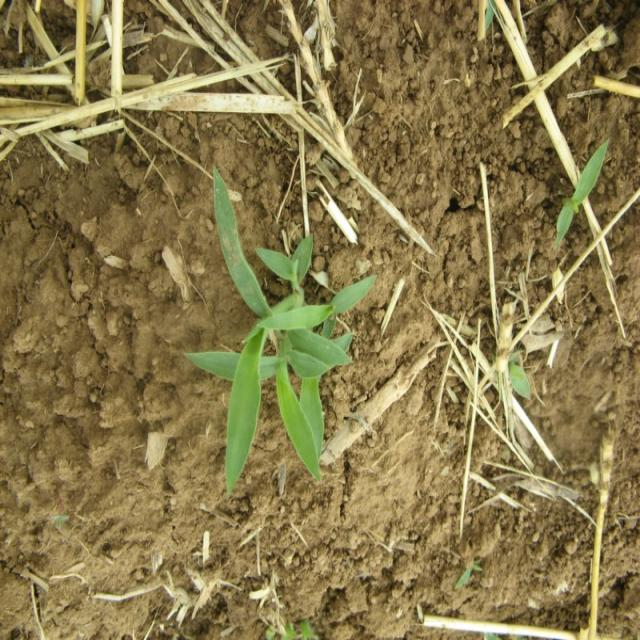bg: (187, 224, 377, 494)
